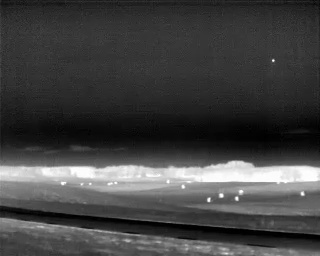BIRD: (270, 56, 277, 66)
